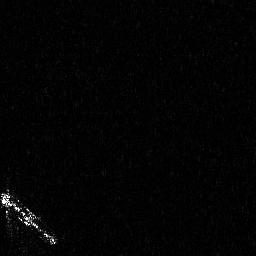ship: (1, 185, 63, 246)
